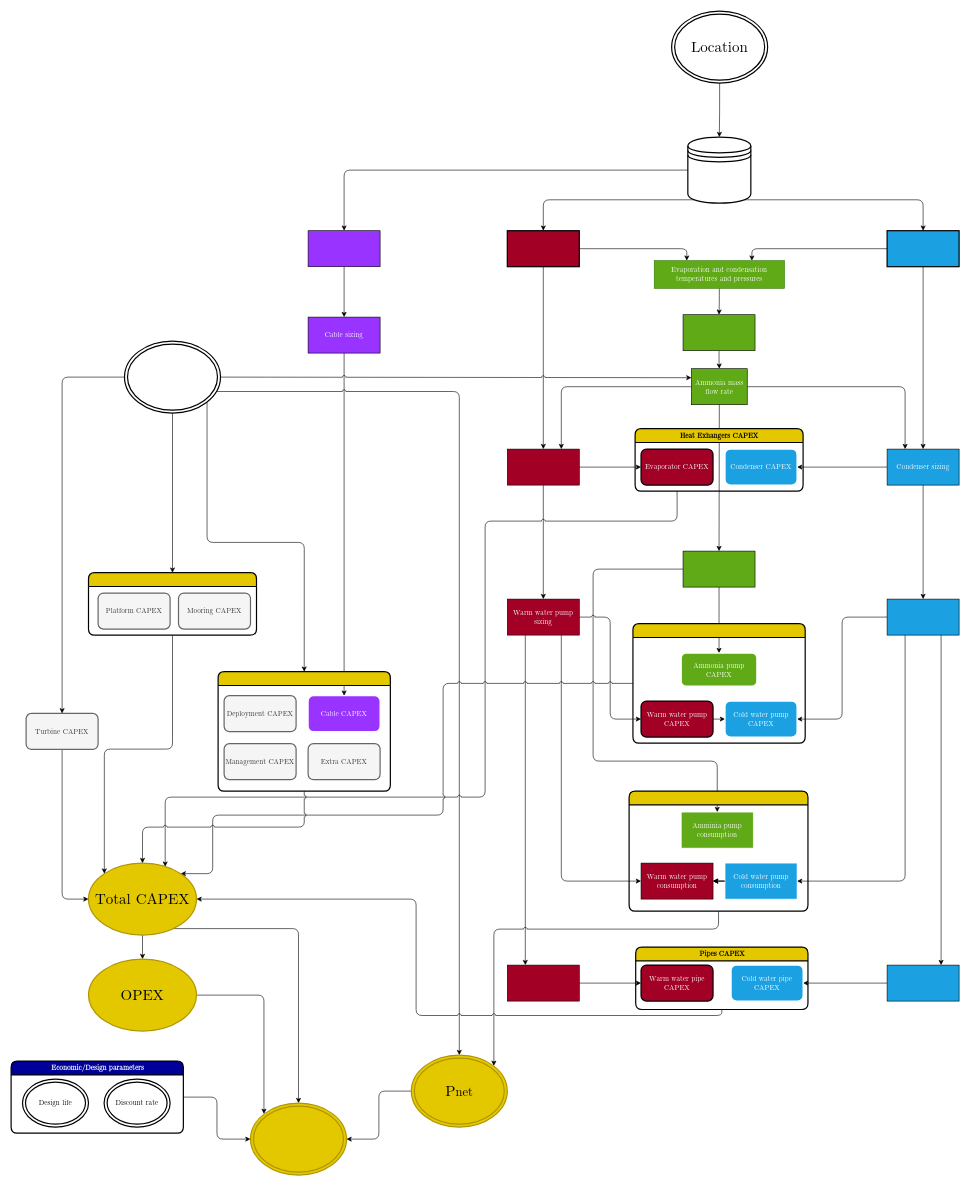
Some shapes in this 970 by 1186 pixel diagram are drawn without their labels. The shapes that lost their labels are listed below. From the top down, each one's centre as x and y in pixels, then its label:
At pixel 719 169: "Copernicus Marine Database".
At pixel 344 248: "Distance to shore".
At pixel 543 248: "Warm water temperature".
At pixel 922 248: "Cold Water temperature".
At pixel 718 332: "Enthalpies".
At pixel 172 376: "P gross".
At pixel 543 466: "Evaporator sizing".
At pixel 718 568: "Ammonia pump sizing".
At pixel 172 603: "Structure CAPEX".
At pixel 922 616: "Cold water pump sizing".
At pixel 719 683: "Pumps CAPEX".
At pixel 304 731: "Other CAPEX".
At pixel 718 850: "Pumps power consumption".
At pixel 543 982: "Warm water pipe sizing".
At pixel 922 982: "Cold water pipe sizing".
At pixel 298 1138: "LCOE".
